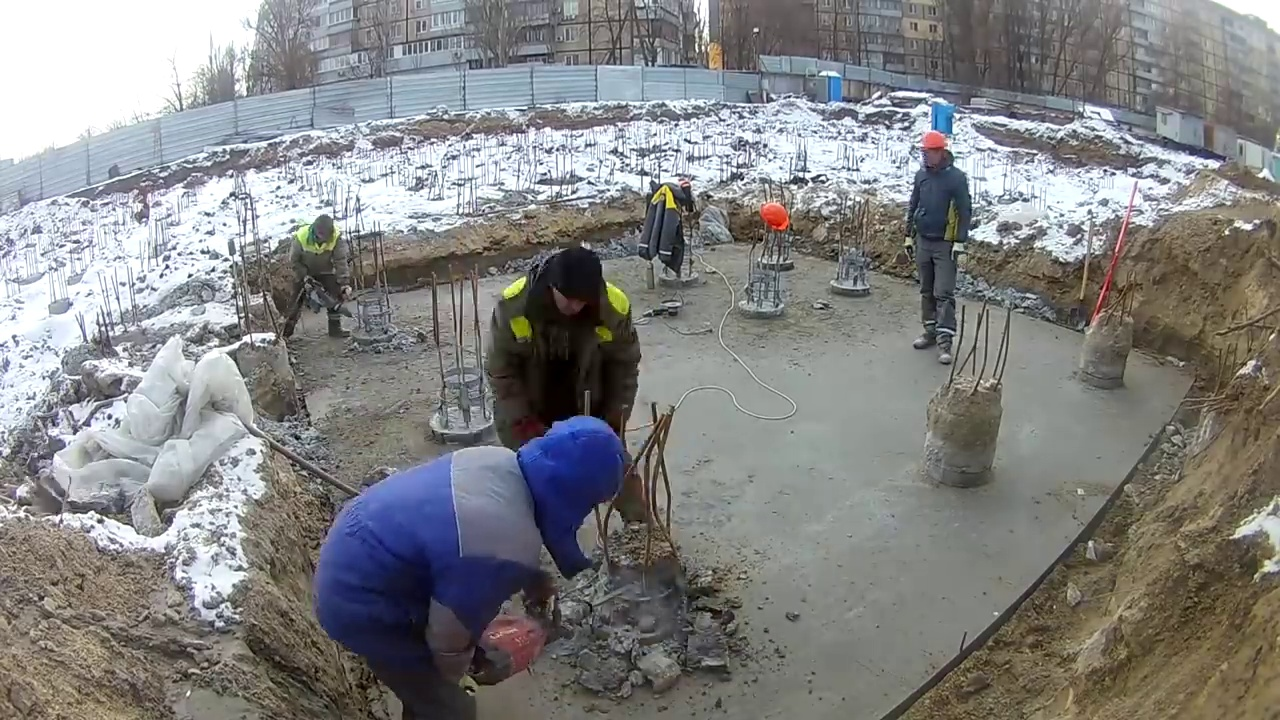helmet: (918, 130, 950, 151)
helmet-off: (515, 419, 628, 528), (532, 253, 598, 335), (309, 215, 335, 244)
helmet-on: (917, 130, 952, 179), (760, 202, 789, 232)
person: (308, 415, 631, 717), (482, 244, 644, 449), (905, 129, 973, 368), (281, 214, 351, 340)
